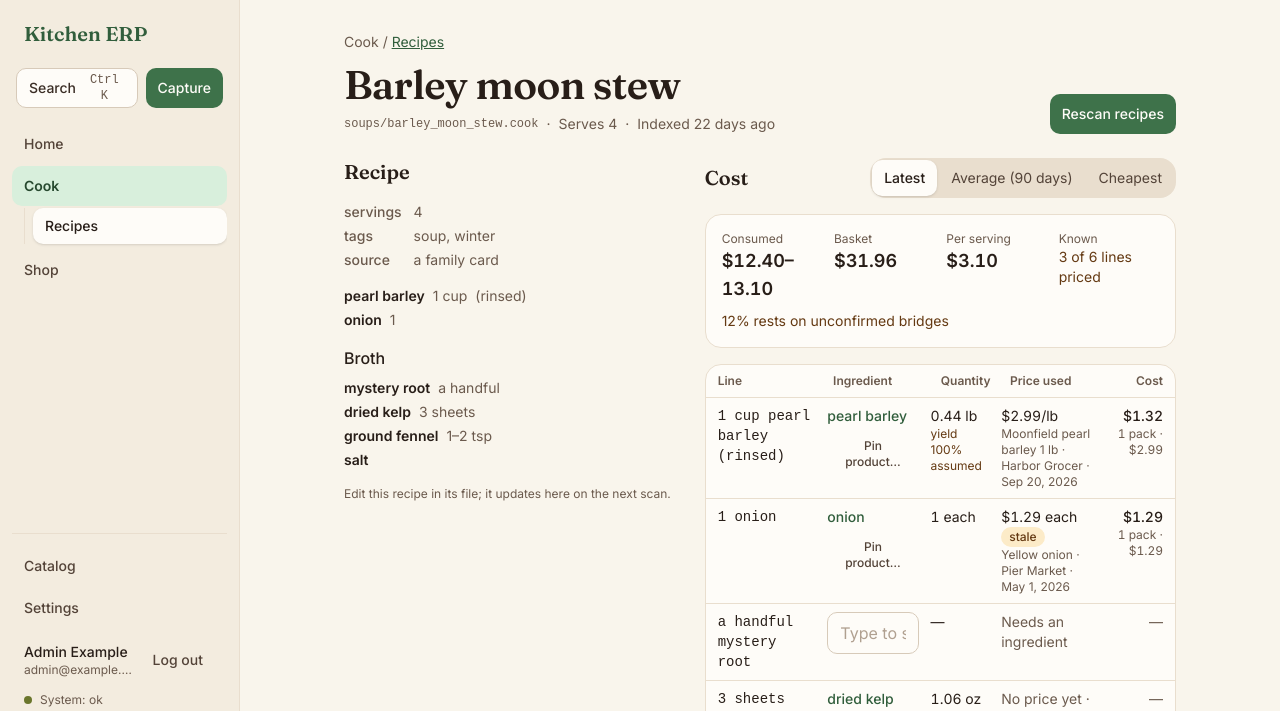
pins (UI-7.11, criterion 31) › Pin product… offers only the line's ingredient's products, pins on Enter, then shows Pinned with Unpin
The width and height of the screenshot is (1280, 711).
Click the button "Pin product…" below "1 cup pearl barley (rinsed)" at (873, 454), box [827,430,919,478]
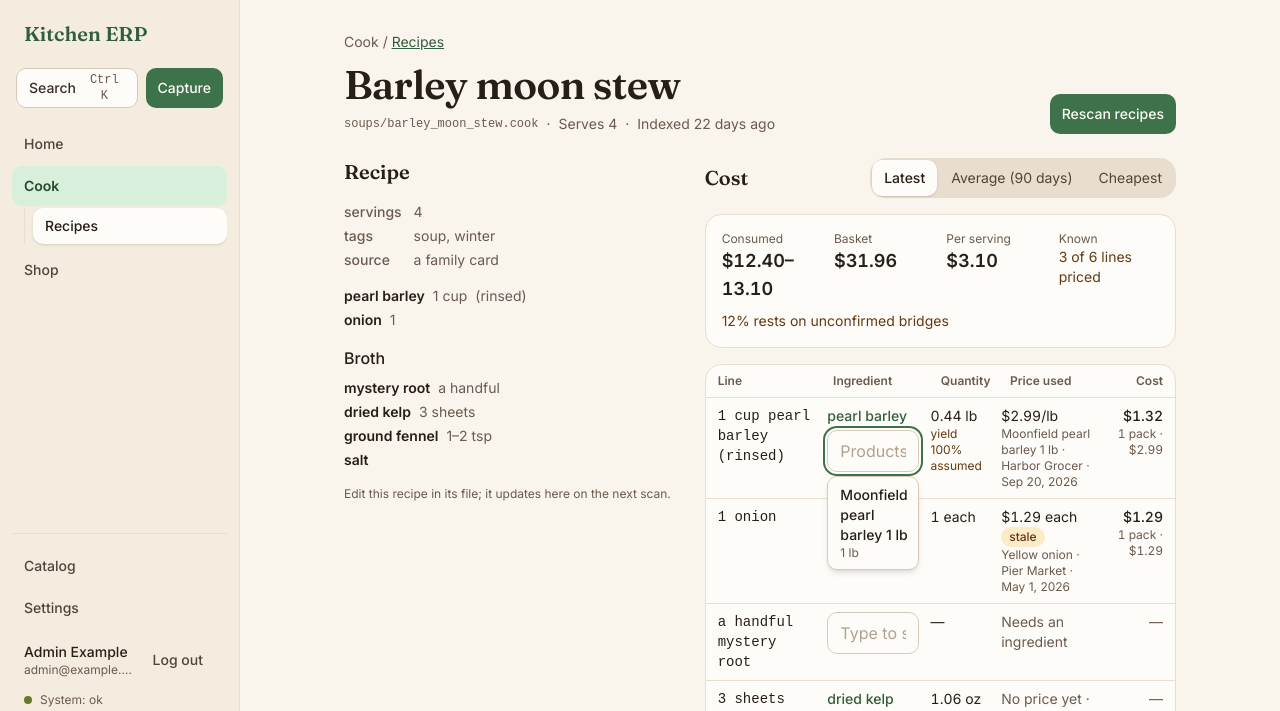
Check: the number of options is 1, box [840,486,908,560]
Check: the list named "Products" shows "Moonfield pearl barley 1 lb", box [840,486,908,543]
Press Arrowdown Enter
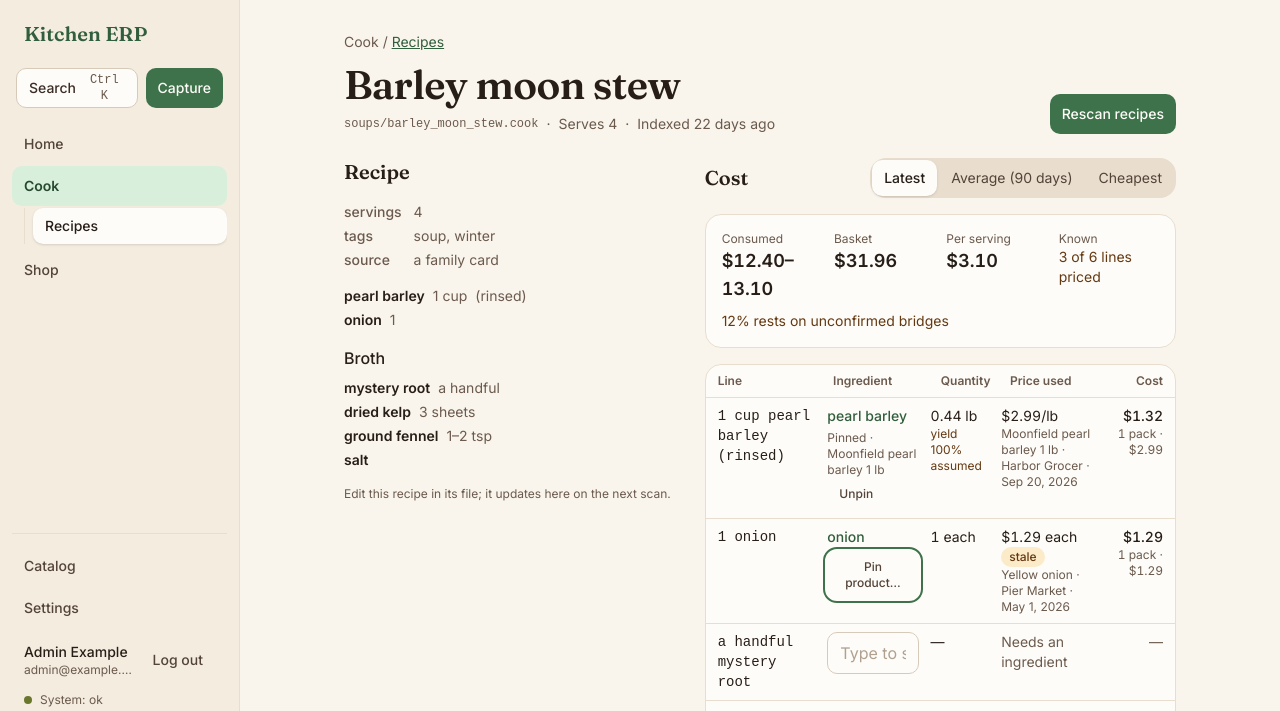
Check: the row with test id "cost-row" that starts with "1 onion" is shown, box [706,519,1175,624]
Check: the element with test id "pinned" shows "Pinned · Moonfield pearl barley 1 lb", box [827,430,919,510]
Click the button "Unpin" at (856, 494), box [827,478,885,510]
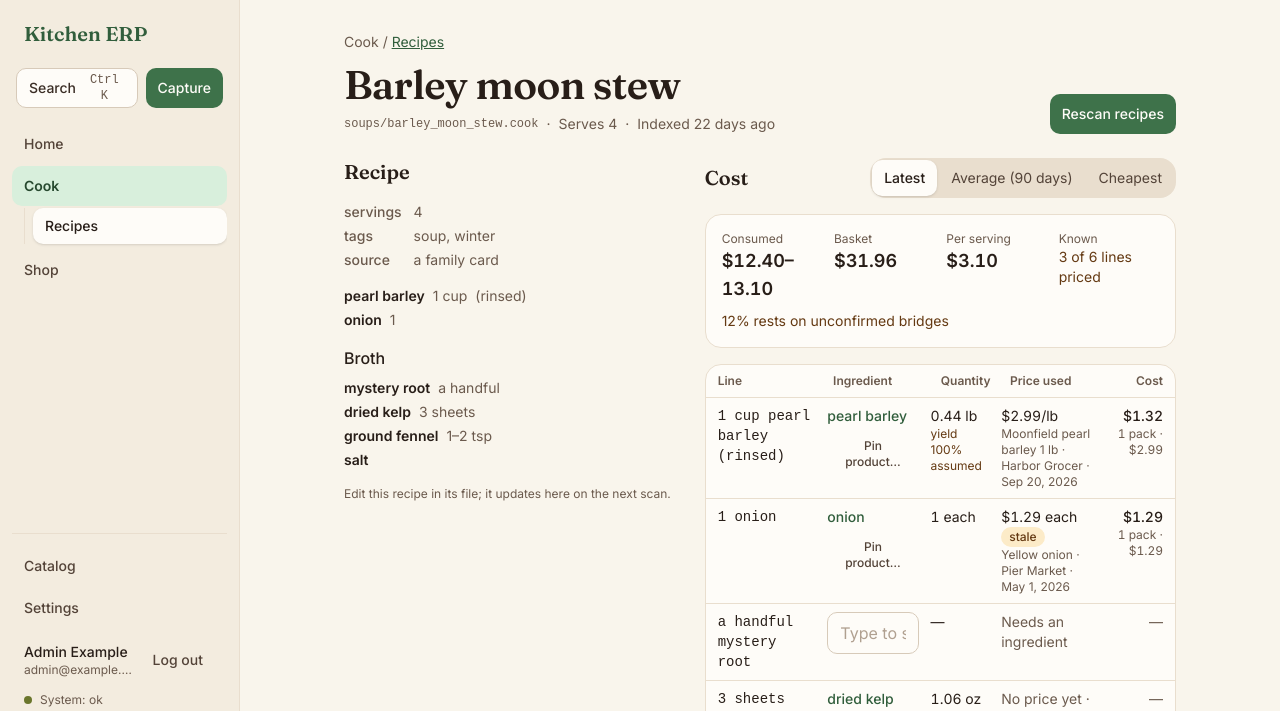
Check: the button "Pin product…" below "1 cup pearl barley (rinsed)" is shown, box [827,430,919,478]
